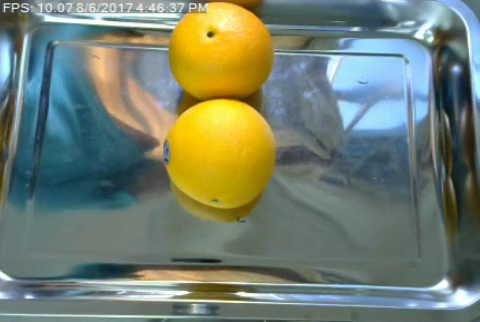Orange: (162, 96, 274, 210), (169, 1, 276, 99)
